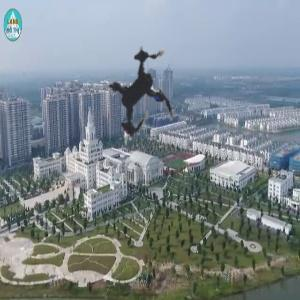drone: (53, 6, 227, 180)
